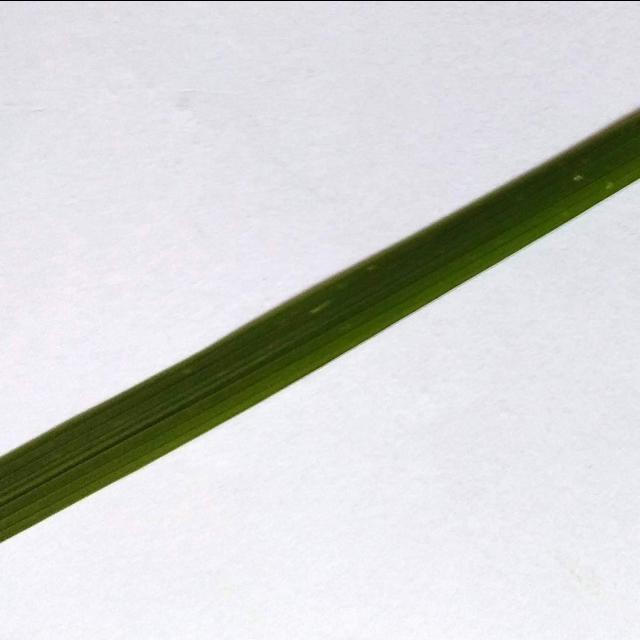healthy: (0, 0, 640, 551)
